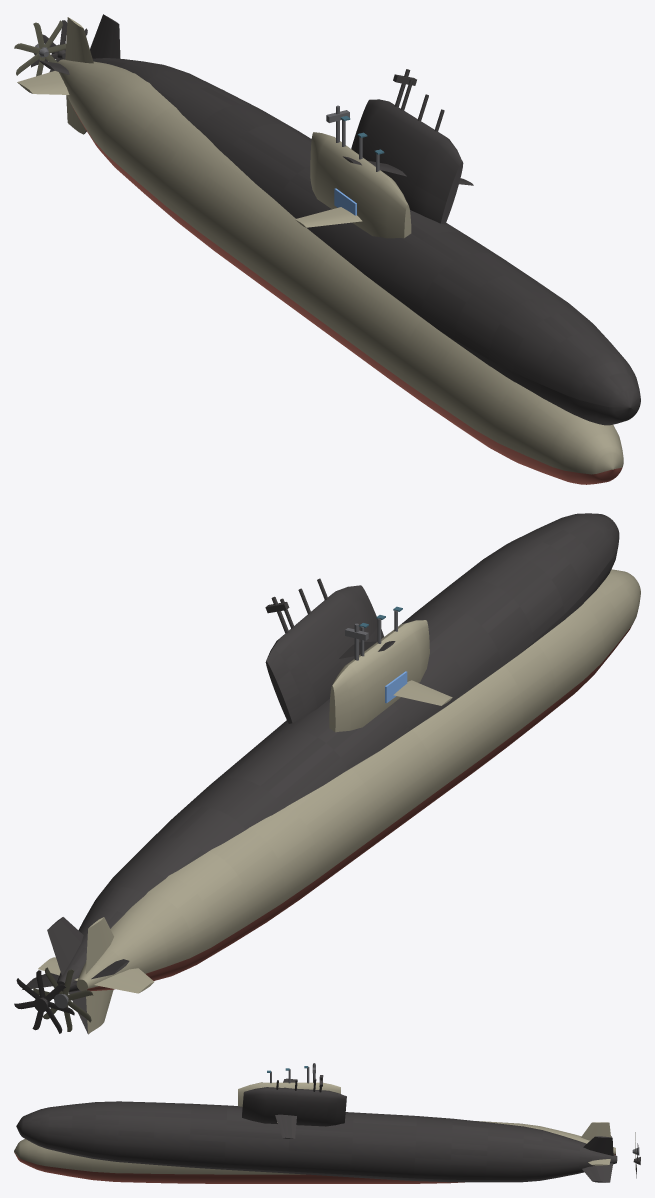
The model's file is submarine__sauro_class.glb.
3 renders of one model, top to bottom at view 1: azimuth 30°, elevation 25°; view 2: azimuth 150°, elevation 25°; view 3: azimuth 270°, elevation 25°, orthographic. The views are drawn at different scales.
Parts seen in each view (by area): view 1: Hull_Mesh, Wreck; view 2: Hull_Mesh, Wreck; view 3: Wreck, Hull_Mesh.
Boxes of the visible parts, <box> form: Hull_Mesh: <box>14,17,623,484</box>; Wreck: <box>31,14,640,425</box>; Hull_Mesh: <box>33,569,640,1033</box>; Wreck: <box>14,513,619,1034</box>; Wreck: <box>16,1075,640,1182</box>; Hull_Mesh: <box>14,1066,639,1183</box>.
Size of what is drawn, in the model's own units: 11.34 by 14.45 by 65.68.
